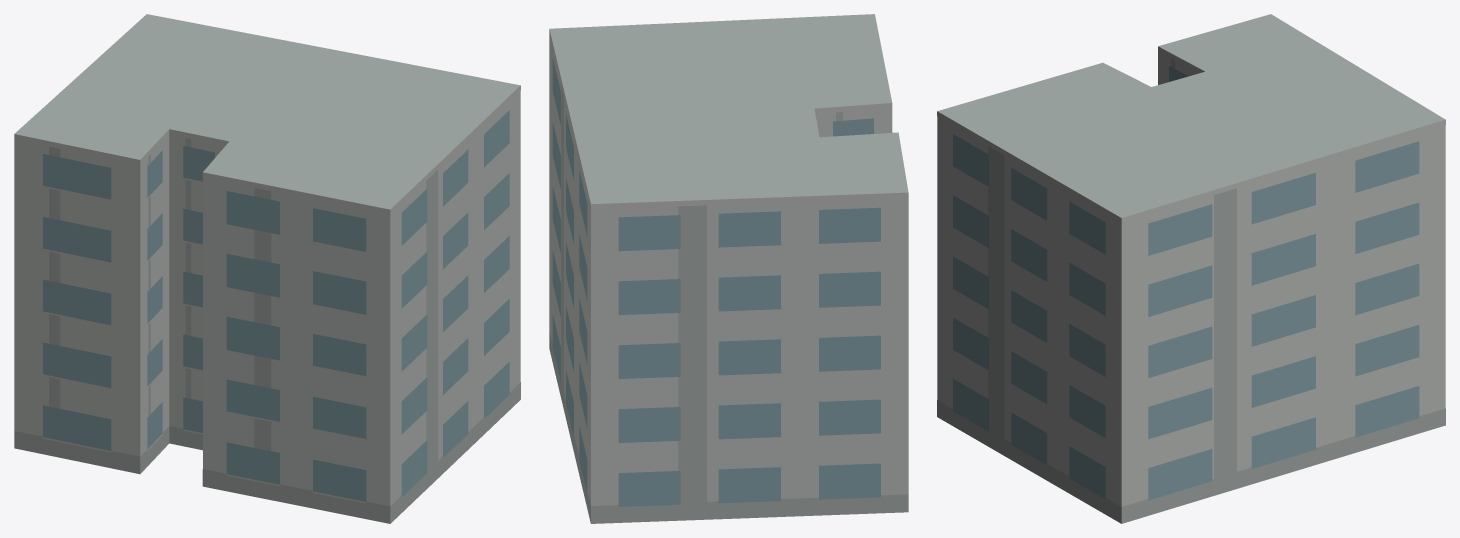
Rendered from survey-upis-32810704.glb.
3 views of the same model, side by side, from view 1: azimuth 30°, elevation 25°; view 2: azimuth 150°, elevation 25°; view 3: azimuth 270°, elevation 25° (orthographic). The views are drawn at different scales.
Parts seen in each view (by area): view 1: survey-upis-32810704.tmp; view 2: survey-upis-32810704.tmp; view 3: survey-upis-32810704.tmp.
Part boxes in pixels (box(x1,y1,x2,y2)): survey-upis-32810704.tmp: box(14, 14, 520, 523); survey-upis-32810704.tmp: box(549, 14, 908, 523); survey-upis-32810704.tmp: box(937, 14, 1445, 523).
Size of the model in its own units: 20.33 by 14.2 by 21.41.
